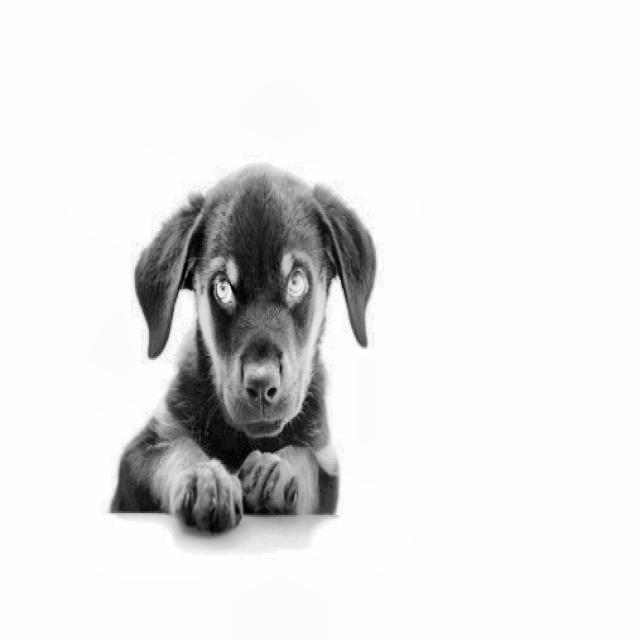rottweiler: (110, 136, 408, 452)
